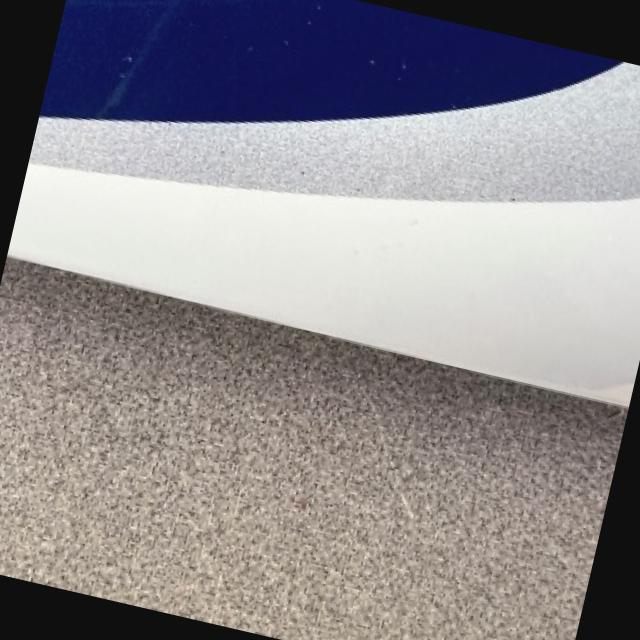healthy: (0, 258, 626, 640), (7, 61, 640, 402)
